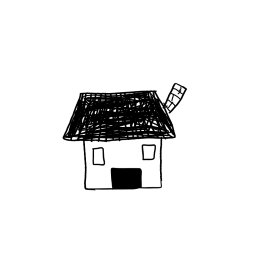chimney: (160, 76, 190, 117)
door: (107, 164, 146, 193)
open_window: (89, 144, 107, 170), (140, 142, 158, 164)
shaded_roof: (60, 86, 180, 145)
small_house: (0, 0, 260, 260)
wall: (80, 133, 165, 194)
